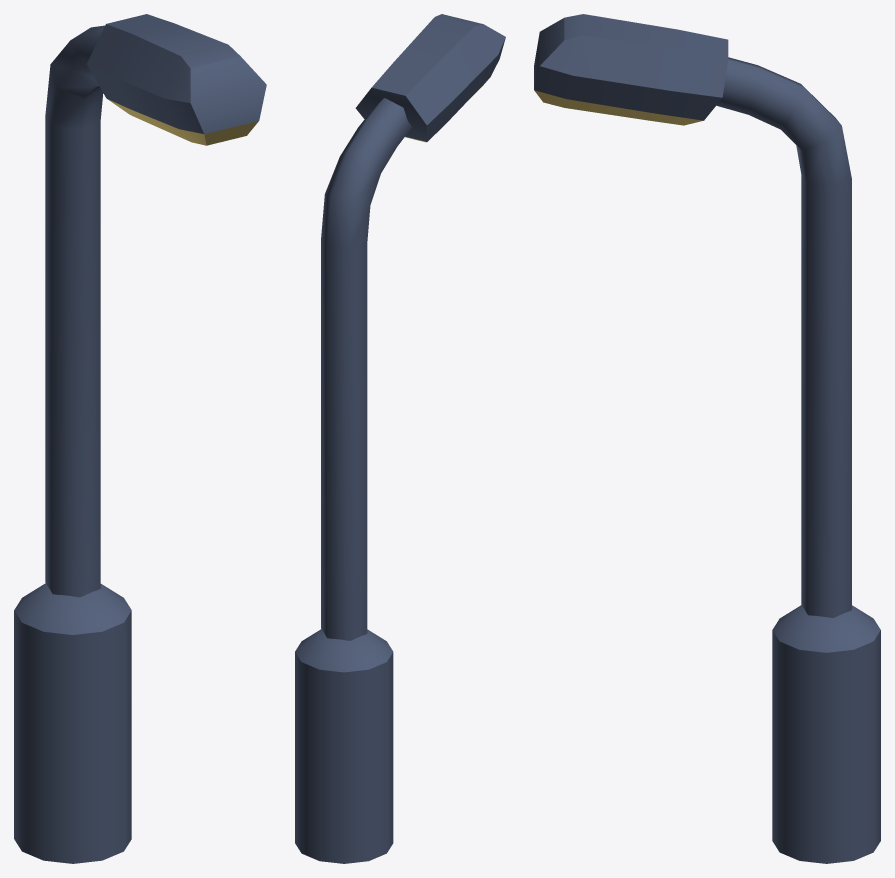
Rendered from lamp_v2.fbx.
3 views of the same model, side by side, from view 1: azimuth 30°, elevation 25°; view 2: azimuth 150°, elevation 25°; view 3: azimuth 270°, elevation 25° (orthographic). The views are drawn at different scales.
Visible parts, largest first — view 1: lamp_v2; view 2: lamp_v2; view 3: lamp_v2.
Part boxes in pixels (x1,y1,x2,y2): lamp_v2: (14,14,266,863); lamp_v2: (295,14,505,863); lamp_v2: (534,14,880,863).
Size of the model in its own units: 39.9 by 331 by 128.
